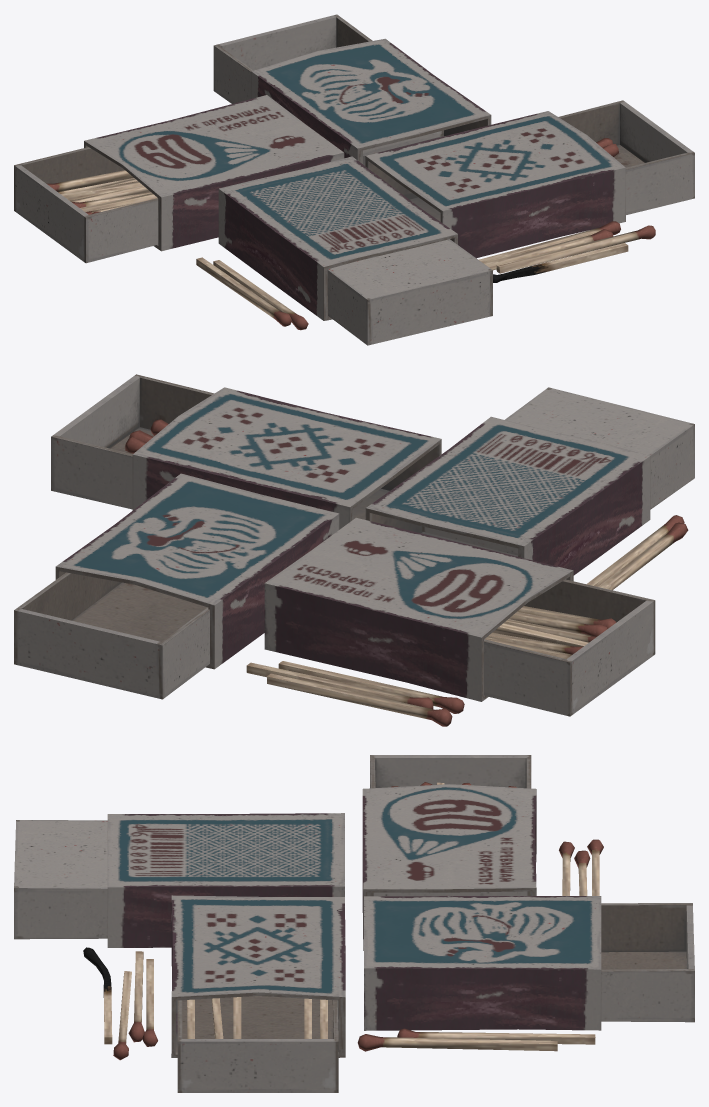
The picture shows the model from 3 angles, top to bottom: view 1: azimuth 30°, elevation 25°; view 2: azimuth 150°, elevation 25°; view 3: azimuth 270°, elevation 25°; orthographic projection. The views are drawn at different scales.
Parts seen in each view (by area): view 1: Corpus_Low.045, Corpus_Low.042, Corpus_Low.044, Corpus_Low.043, Corob_Low.042, Corob_Low.046, Corob_Low.048, Corob_Low.045, Spichki_Low.177, Spichki_Low.182, Spichki_Low.184, Spichki_Low.187 (+4 smaller); view 2: Corpus_Low.044, Corpus_Low.042, Corpus_Low.043, Corpus_Low.045, Corob_Low.045, Corob_Low.046, Corob_Low.048, Corob_Low.042, Spichki_Low.190, Spichki_Low.188, Spichki_Low.189, Spichki_Low.184 (+6 smaller); view 3: Corpus_Low.043, Corpus_Low.042, Corpus_Low.044, Corpus_Low.045, Corob_Low.048, Corob_Low.042, Corob_Low.045, Corob_Low.046, Spichki_Low.178, Spichki_Low.176, Spichki_Low.182, Spichki_Low.174 (+4 smaller).
Boxes of the visible parts, x1,y1,x2,y2 form: Corpus_Low.045: (365, 111, 625, 258); Corpus_Low.042: (218, 156, 457, 320); Corpus_Low.044: (84, 95, 344, 251); Corpus_Low.043: (251, 38, 491, 165); Corob_Low.042: (327, 239, 492, 345); Corob_Low.046: (14, 147, 158, 263); Corob_Low.048: (558, 100, 694, 214); Corob_Low.045: (213, 14, 443, 155); Spichki_Low.177: (496, 225, 655, 273); Spichki_Low.182: (493, 243, 628, 282); Spichki_Low.184: (196, 257, 291, 326); Spichki_Low.187: (213, 260, 308, 330); Corpus_Low.044: (264, 517, 573, 701); Corpus_Low.042: (365, 416, 650, 575); Corpus_Low.043: (55, 473, 339, 669); Corpus_Low.045: (132, 387, 441, 529); Corob_Low.045: (14, 572, 209, 699); Corob_Low.046: (484, 579, 655, 716); Corob_Low.048: (51, 374, 214, 509); Corob_Low.042: (421, 387, 694, 555); Spichki_Low.190: (267, 673, 452, 726); Spichki_Low.188: (278, 661, 464, 713); Spichki_Low.189: (246, 662, 433, 708); Spichki_Low.184: (598, 522, 688, 590); Corpus_Low.043: (364, 896, 601, 1030); Corpus_Low.042: (107, 813, 344, 947); Corpus_Low.044: (362, 784, 536, 950); Corpus_Low.045: (171, 895, 345, 1057); Corob_Low.048: (177, 996, 338, 1092); Corob_Low.042: (14, 820, 107, 939); Corob_Low.045: (601, 903, 694, 1022); Corob_Low.046: (370, 755, 531, 896); Spichki_Low.178: (357, 1034, 557, 1051); Spichki_Low.176: (397, 1028, 595, 1044); Spichki_Low.182: (83, 947, 112, 1044); Spichki_Low.174: (128, 951, 144, 1042).
Bounding box in the file's own units: 14.29 × 1.6 × 14.34.
1 material, 1 textured.
